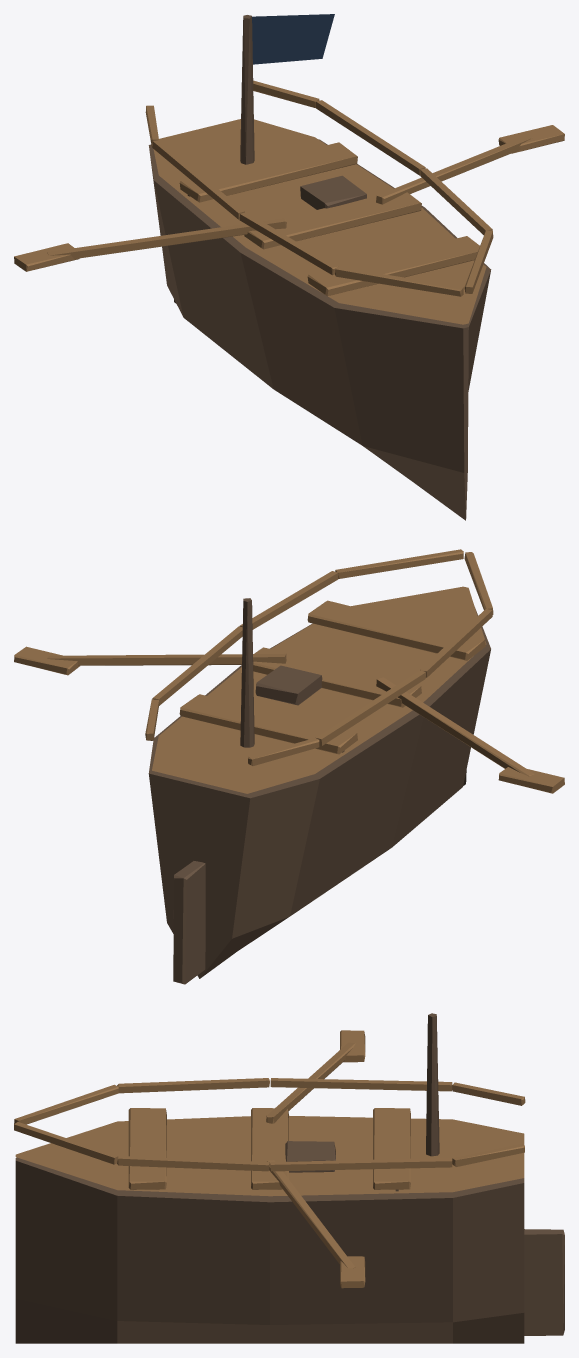
Rendered from ships-rowboat.lod1.glb.
The picture shows the model from 3 angles, top to bottom: view 1: azimuth 30°, elevation 25°; view 2: azimuth 150°, elevation 25°; view 3: azimuth 270°, elevation 25°; orthographic projection. The views are drawn at different scales.
Visible parts, largest first — view 1: ships-rowboat__body, ships-rowboat__flag, ships-rowboat__oar--1, ships-rowboat__oar-1, ships-rowboat__hatch; view 2: ships-rowboat__body, ships-rowboat__rudder, ships-rowboat__oar-1, ships-rowboat__oar--1, ships-rowboat__hatch; view 3: ships-rowboat__body, ships-rowboat__rudder, ships-rowboat__oar-1, ships-rowboat__oar--1, ships-rowboat__hatch.
Boxes of the visible parts, x1,y1,x2,y2 form: ships-rowboat__body: [145, 15, 493, 520]; ships-rowboat__flag: [252, 14, 334, 64]; ships-rowboat__oar--1: [14, 218, 286, 271]; ships-rowboat__oar-1: [376, 125, 564, 204]; ships-rowboat__hatch: [300, 175, 366, 209]; ships-rowboat__body: [145, 549, 493, 978]; ships-rowboat__rudder: [173, 861, 205, 984]; ships-rowboat__oar-1: [14, 646, 286, 675]; ships-rowboat__oar--1: [376, 677, 564, 793]; ships-rowboat__hatch: [255, 665, 322, 705]; ships-rowboat__body: [14, 1013, 525, 1343]; ships-rowboat__rudder: [524, 1229, 564, 1335]; ships-rowboat__oar-1: [267, 1160, 365, 1288]; ships-rowboat__oar--1: [266, 1030, 365, 1123]; ships-rowboat__hatch: [285, 1141, 335, 1172].
Size of what is drawn, in the model's own units: 4.67 by 2.85 by 4.33.
